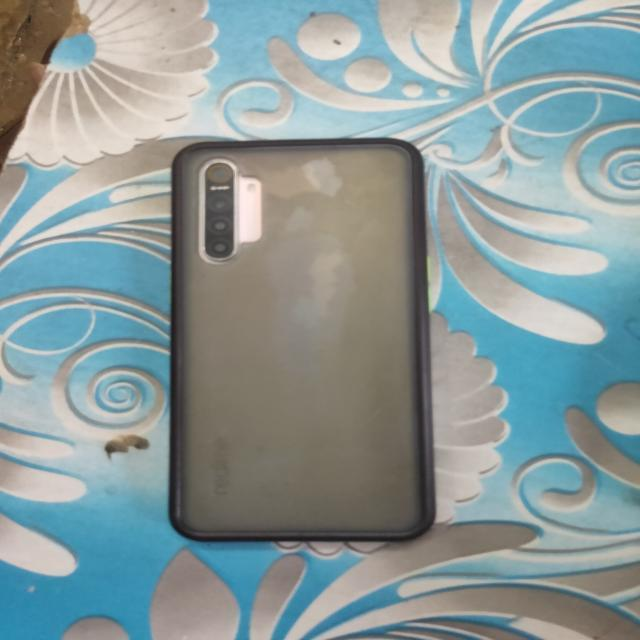Phone: (164, 136, 438, 548)
